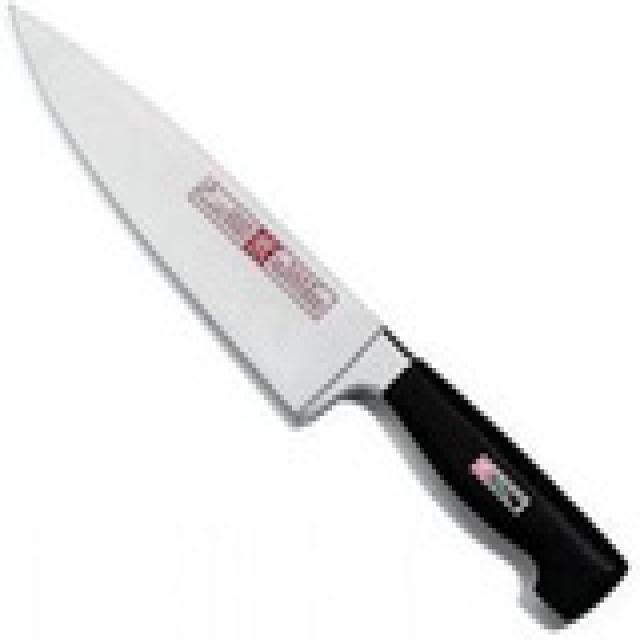Knife: (8, 2, 628, 630)
